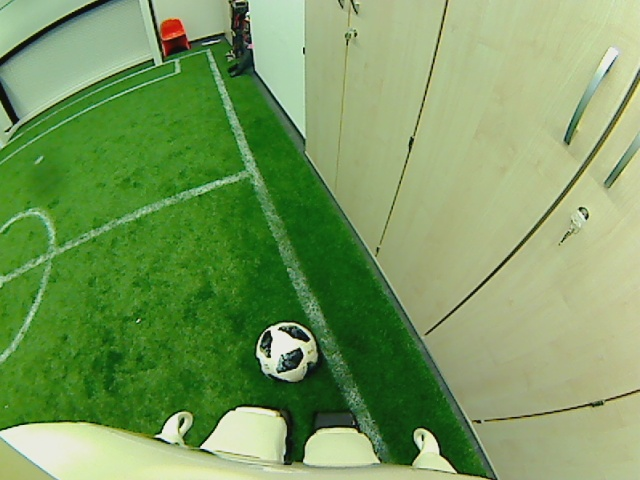ball: (255, 321, 321, 382)
